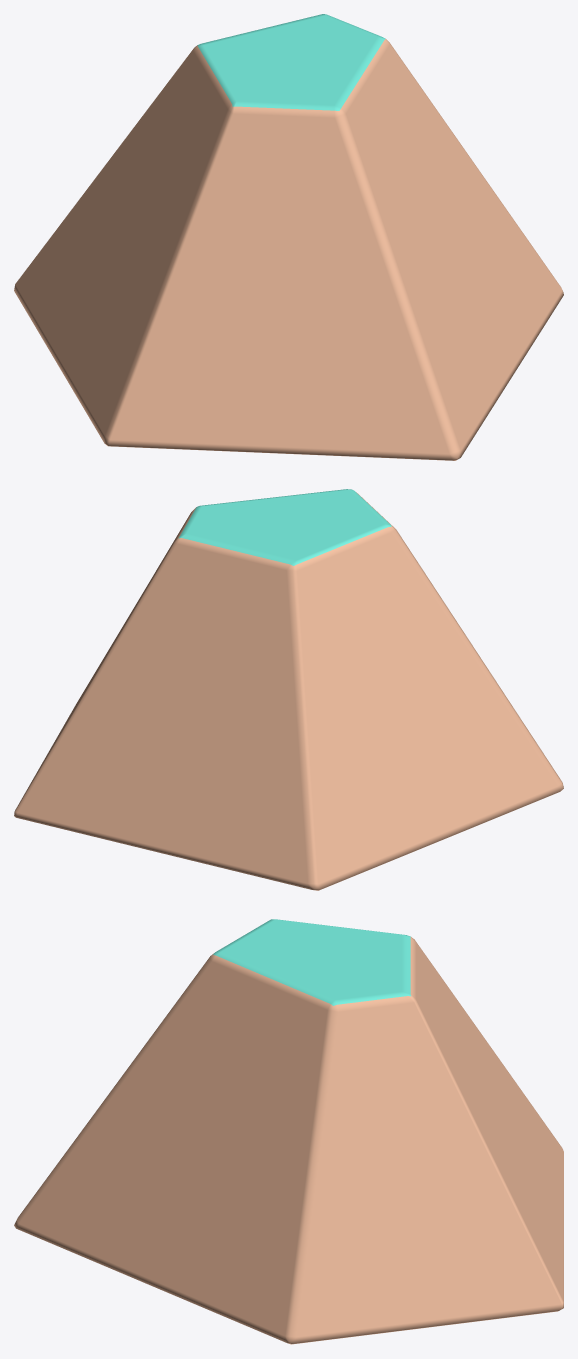
File: rock_smallA.glb
3 renders of one model, top to bottom at view 1: azimuth 30°, elevation 25°; view 2: azimuth 150°, elevation 25°; view 3: azimuth 270°, elevation 25°, orthographic. The views are drawn at different scales.
Visible parts, largest first — view 1: rock_smallA; view 2: rock_smallA; view 3: rock_smallA.
Part boxes in pixels (x1=…): rock_smallA: x1=14, y1=14, x2=563, y2=460; rock_smallA: x1=14, y1=489, x2=563, y2=890; rock_smallA: x1=14, y1=919, x2=563, y2=1344.
Size of the model in its own units: 0.3543 by 0.1912 by 0.353.
